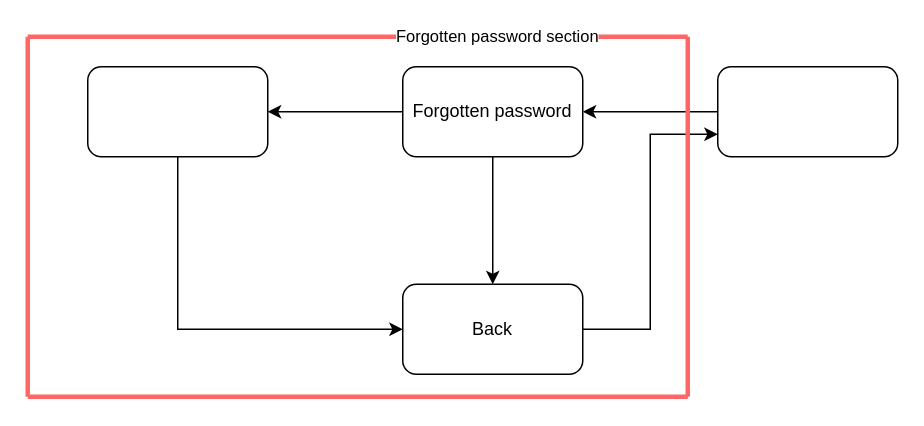
This 924x426 diagram has some shape labels left out. The shapes that lost their labels are listed below. From the top down, each one's centre as x and y in pixels, then its label:
point 177,111: Reset password
point 807,111: Front page
